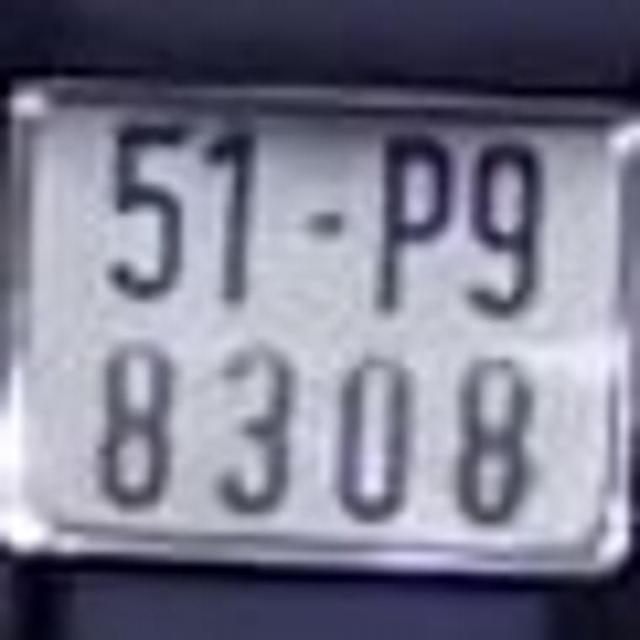0: (341, 362, 404, 516)
1: (205, 127, 254, 300)
3: (220, 343, 288, 512)
5: (111, 124, 181, 303)
8: (96, 343, 181, 506), (456, 354, 529, 525)
9: (468, 143, 534, 312)
P: (380, 134, 447, 318)
